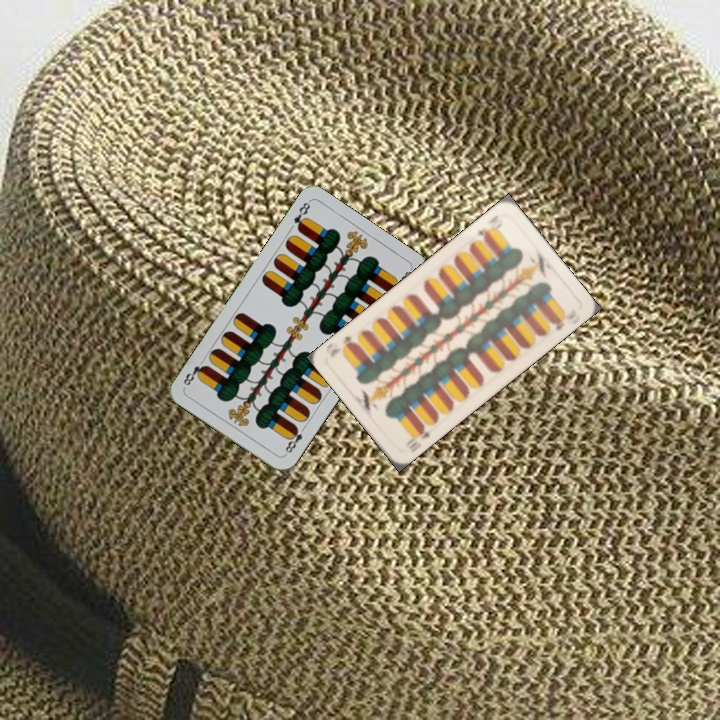E10: (405, 422, 433, 455), (473, 219, 496, 243)
E8: (280, 422, 308, 458), (290, 197, 313, 234)
